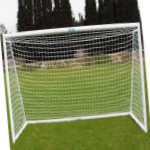goals: (1, 20, 149, 143)
